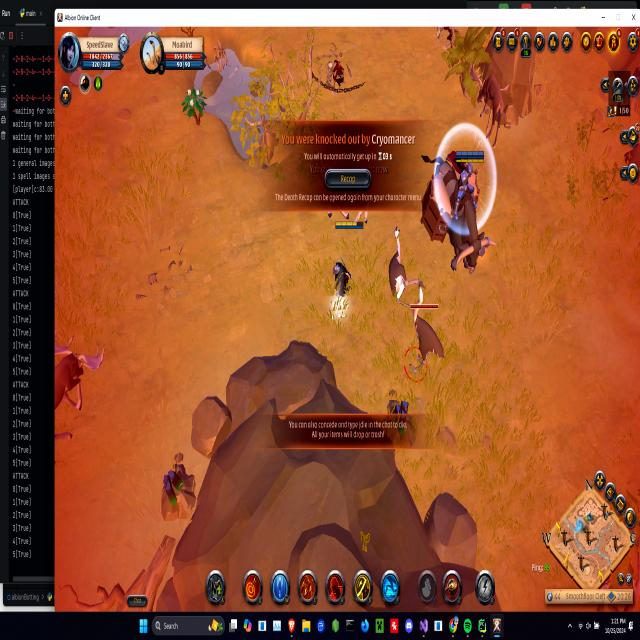hide: (181, 81, 208, 126)
mob: (386, 217, 416, 314)
ore: (54, 335, 108, 449), (404, 282, 446, 394), (466, 63, 514, 154), (324, 52, 349, 98)
player: (156, 454, 200, 524), (383, 391, 422, 454)
red: (428, 143, 490, 278), (328, 218, 364, 314)
stone: (326, 293, 352, 325)
